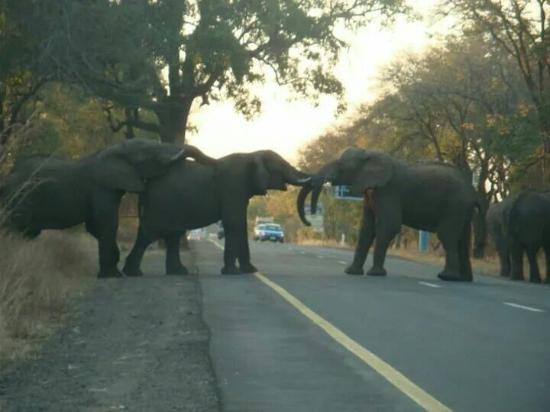Elephant: (302, 144, 479, 283), (124, 150, 304, 278), (5, 136, 148, 278), (487, 186, 549, 281)
Road: (190, 236, 548, 410)
